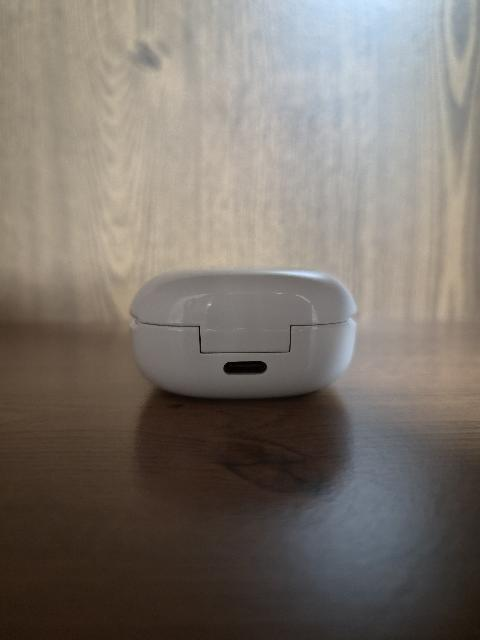earphone_case: (129, 269, 357, 399)
